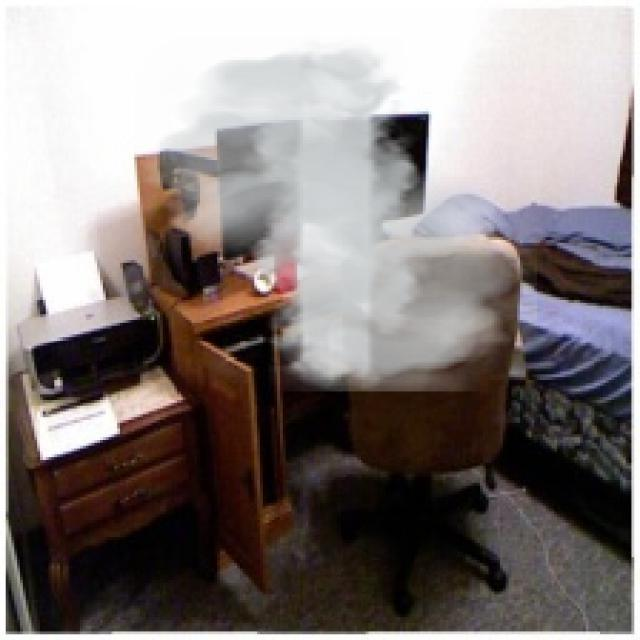Smoke: (134, 37, 537, 392)
